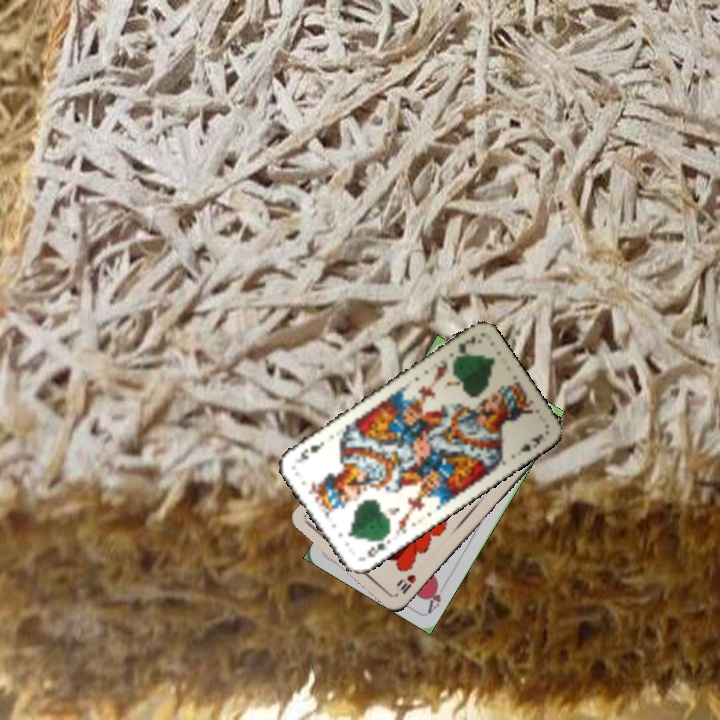GK: (362, 531, 389, 560), (454, 332, 479, 356)
H10: (394, 570, 419, 596)
HA: (424, 577, 449, 615)
